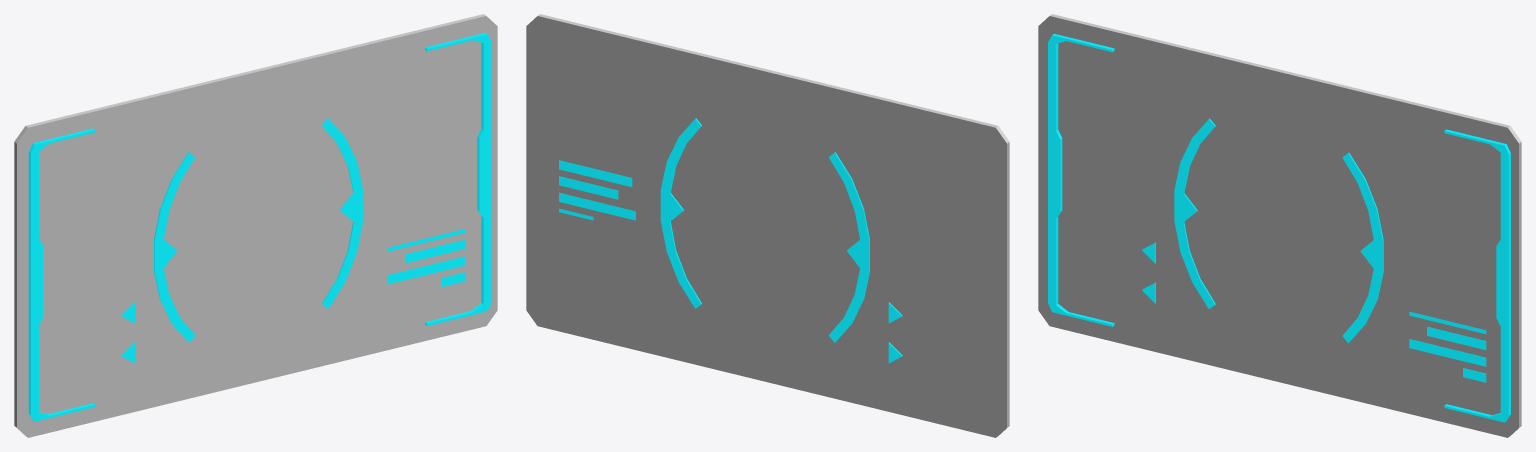
Rendered from SM_Hud_ScreenPreset_01.glb.
3 views of the same model, side by side, from view 1: azimuth 30°, elevation 25°; view 2: azimuth 150°, elevation 25°; view 3: azimuth 330°, elevation 25° (orthographic).
Parts seen in each view (by area): view 1: SM_Hud_ScreenPreset_01; view 2: SM_Hud_ScreenPreset_01; view 3: SM_Hud_ScreenPreset_01.
Part boxes in pixels (left/top/right/bottom): SM_Hud_ScreenPreset_01: left=14, top=14, right=497, bottom=437; SM_Hud_ScreenPreset_01: left=526, top=14, right=1009, bottom=437; SM_Hud_ScreenPreset_01: left=1038, top=14, right=1521, bottom=437.
Bounding box in the file's own units: 1.17 × 0.7183 × 0.0234.
